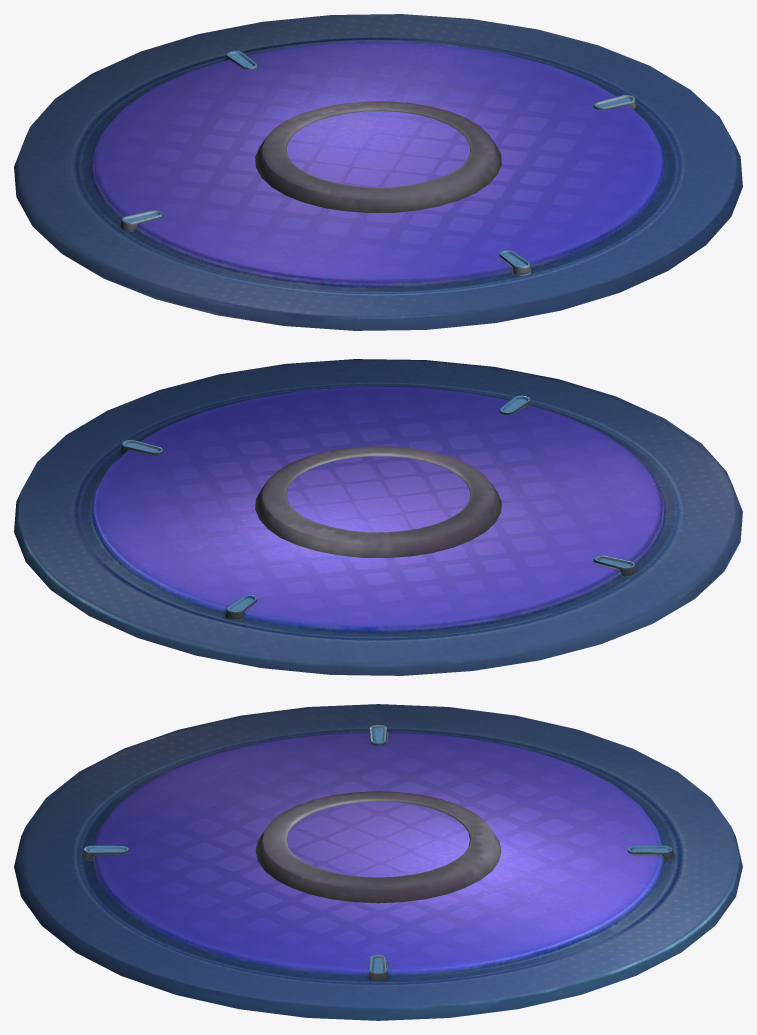
File: pref_TPC_v2_WSJ_NeutralScoreArea03_purple_static_lv1.fbx
3 renders of one model, top to bottom at view 1: azimuth 30°, elevation 25°; view 2: azimuth 150°, elevation 25°; view 3: azimuth 270°, elevation 25°, orthographic.
Visible parts, largest first — view 1: sm_prop_platform06a_lv1, sm_prop_platform06b_lv1; view 2: sm_prop_platform06a_lv1, sm_prop_platform06b_lv1; view 3: sm_prop_platform06a_lv1, sm_prop_platform06b_lv1.
Boxes of the visible parts, left/top/right/bottom form: sm_prop_platform06a_lv1: left=14, top=14, right=742, bottom=330; sm_prop_platform06b_lv1: left=255, top=101, right=501, bottom=212; sm_prop_platform06a_lv1: left=14, top=359, right=742, bottom=675; sm_prop_platform06b_lv1: left=255, top=446, right=501, bottom=557; sm_prop_platform06a_lv1: left=14, top=704, right=742, bottom=1020; sm_prop_platform06b_lv1: left=255, top=791, right=501, bottom=903.
Bounding box in the file's own units: 7.46 × 0.3251 × 7.46.
